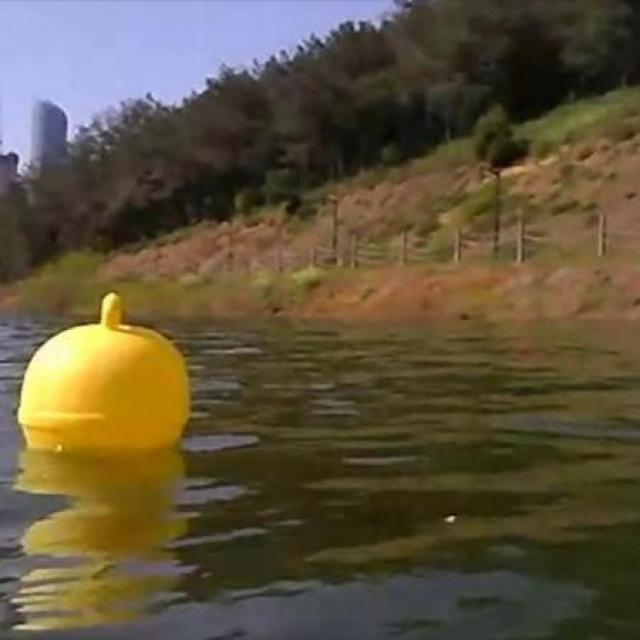buoy: (26, 294, 190, 457)
